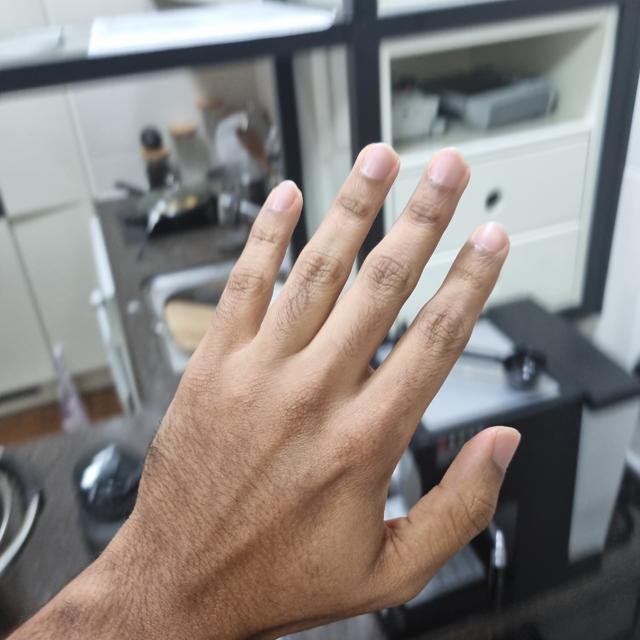Paper: (114, 146, 513, 639)
